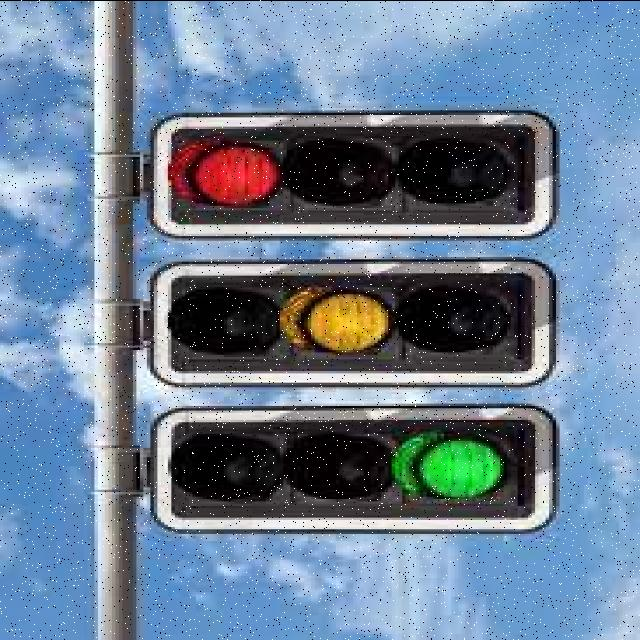green: (178, 425, 530, 517)
red: (166, 127, 528, 217)
yellow: (167, 276, 527, 370)
